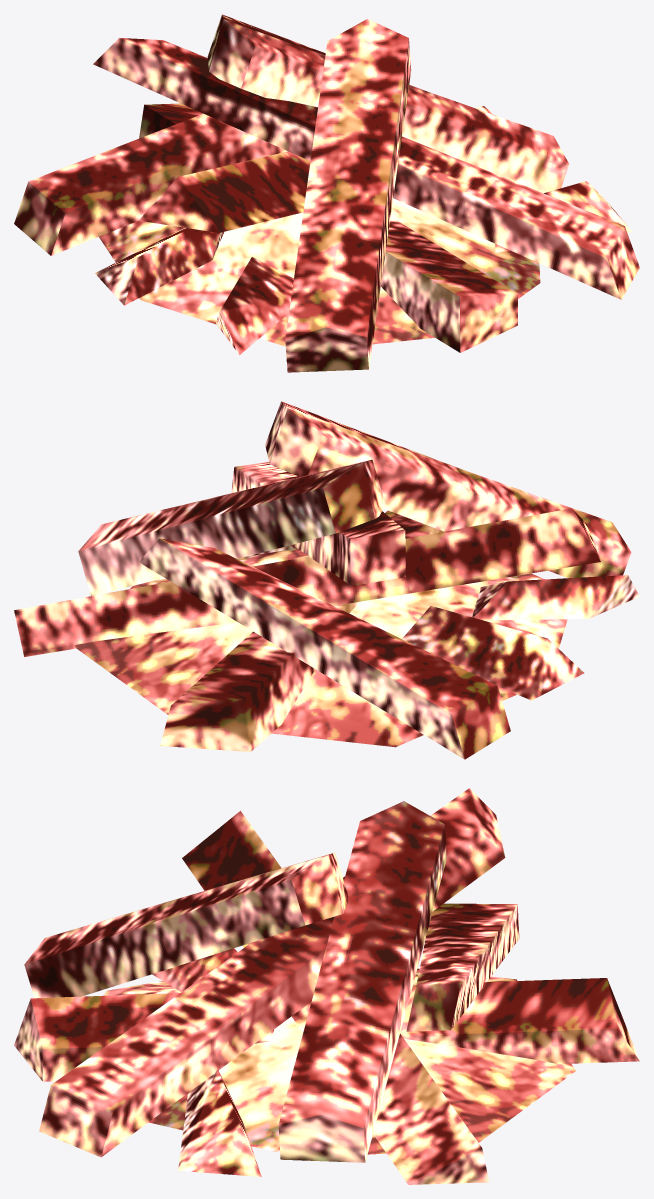
The model's file is bonfire.FBX.
3 renders of one model, top to bottom at view 1: azimuth 30°, elevation 25°; view 2: azimuth 150°, elevation 25°; view 3: azimuth 270°, elevation 25°, orthographic. The views are drawn at different scales.
Parts seen in each view (by area): view 1: bonfire; view 2: bonfire; view 3: bonfire.
Part boxes in pixels (bbox=[...]): bonfire: bbox=[14, 14, 639, 372]; bonfire: bbox=[14, 401, 639, 759]; bonfire: bbox=[14, 788, 639, 1184].
Bounding box in the file's own units: 16.56 × 7.6 × 18.16.
